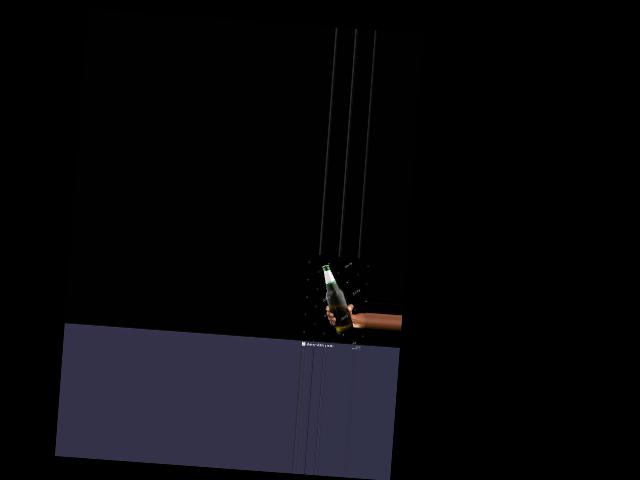beer: (317, 263, 358, 335)
